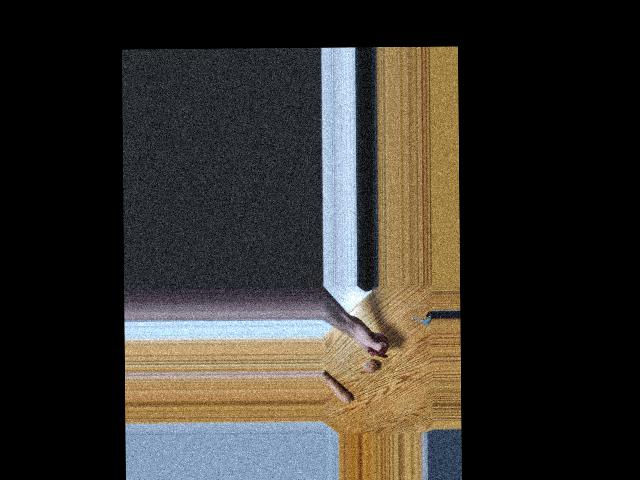onion: (363, 357, 377, 375)
